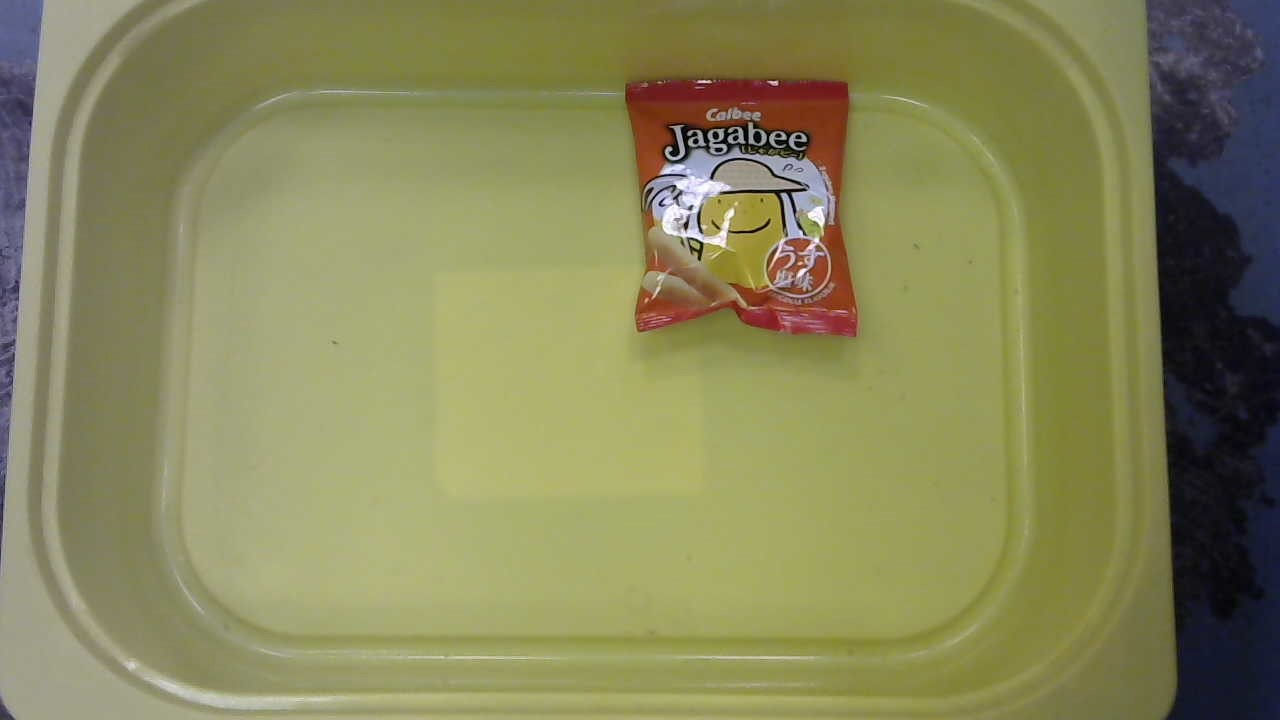JagabeeFarmer: (616, 71, 864, 346)
